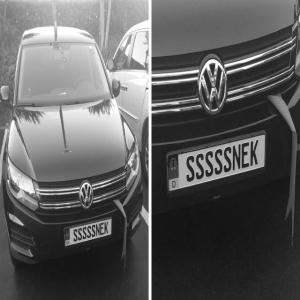Plate: (167, 134, 266, 191), (64, 219, 112, 246)
